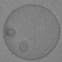small: (18, 42, 28, 52), (6, 28, 17, 37)
